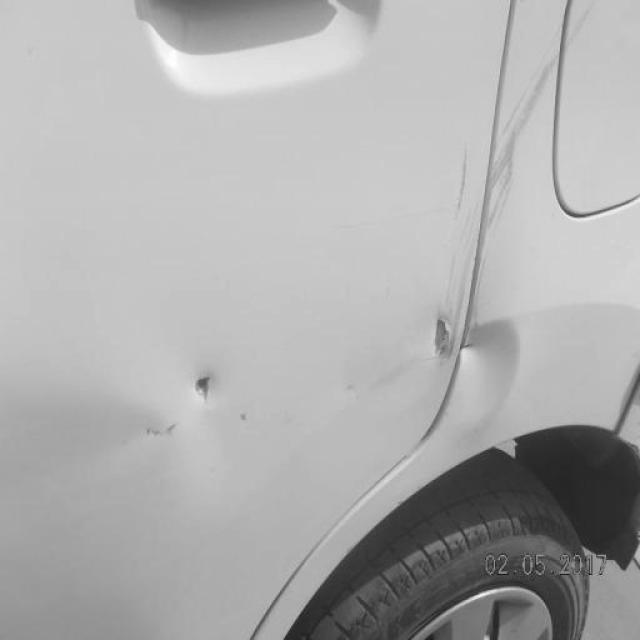scratch: (443, 0, 593, 373), (138, 419, 185, 443), (235, 406, 251, 430)
tear: (183, 362, 229, 412), (427, 308, 457, 372)
